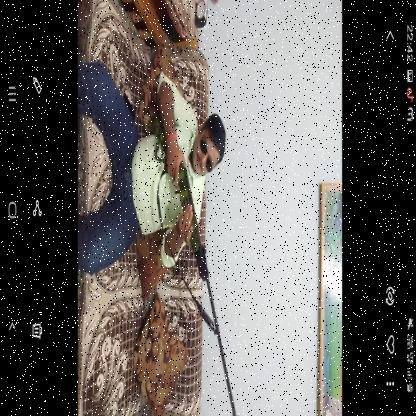rifle: (148, 110, 236, 416)
